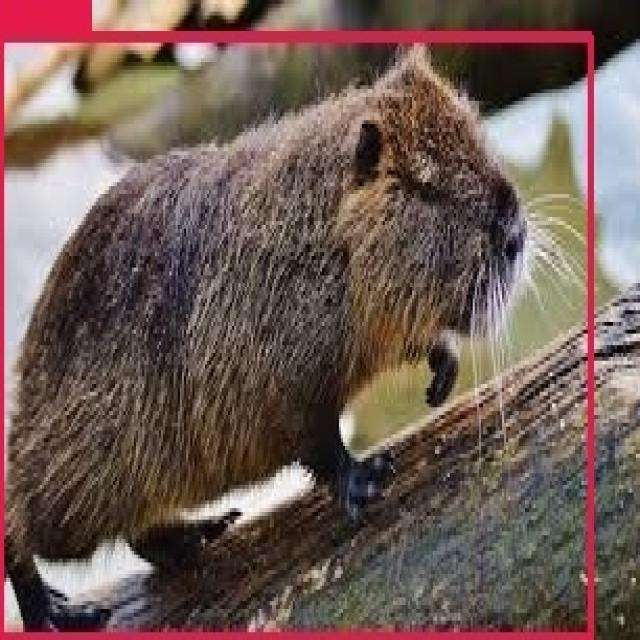rat: (1, 35, 591, 640)
